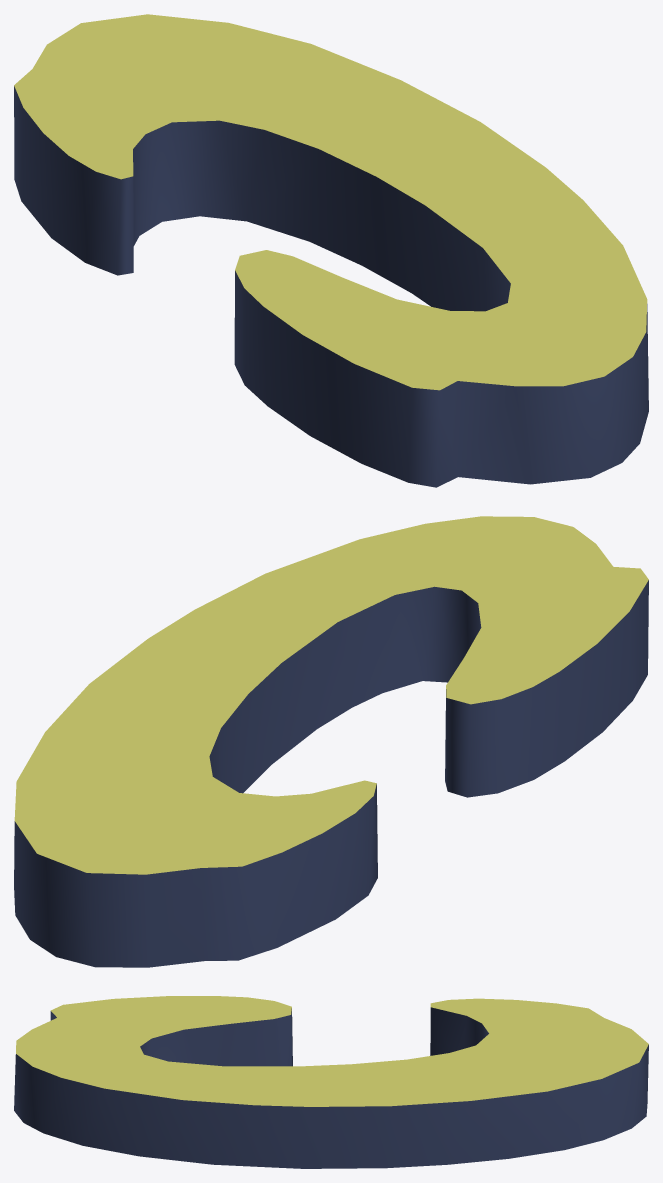
Rendered from c_boss.fbx.
The picture shows the model from 3 angles, top to bottom: view 1: azimuth 30°, elevation 25°; view 2: azimuth 150°, elevation 25°; view 3: azimuth 270°, elevation 25°; orthographic projection. The views are drawn at different scales.
Parts seen in each view (by area): view 1: C; view 2: C; view 3: C.
Boxes of the visible parts, <box> form: C: <box>14,14,648,487</box>; C: <box>14,516,648,967</box>; C: <box>14,996,648,1168</box>.
Size of the model in its own units: 0.6154 by 0.1599 by 1.49.
